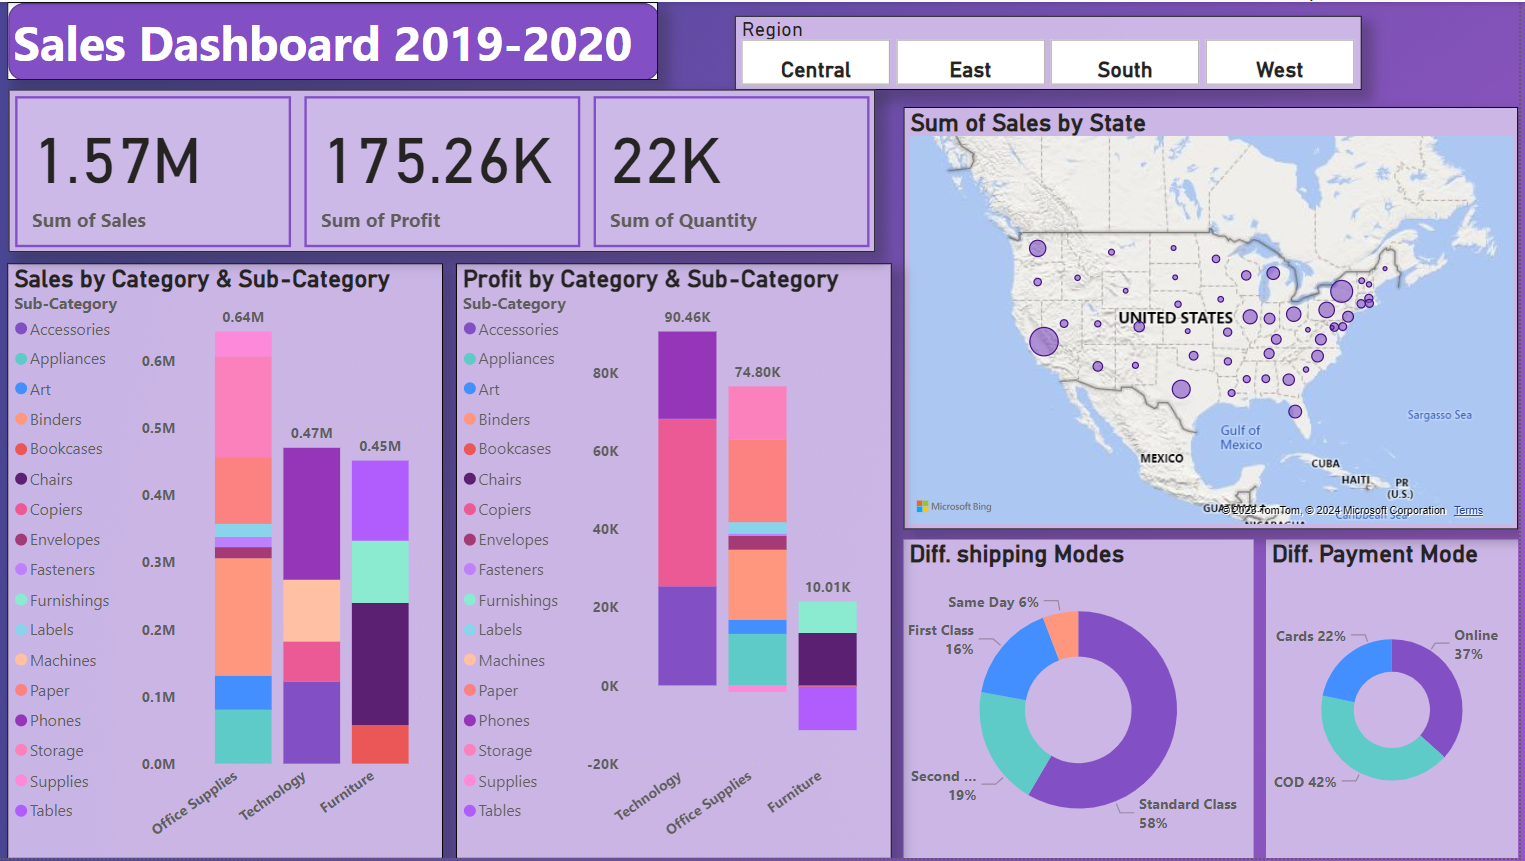

Layout of this report page (visuals, bound fields, positions):
{"tool":"powerbi","page":{"name":"Dashboard1","canvas":[1280,720],"ordinal":0},"visuals":[{"type":"shape","box":[10,0,547.6,65.4],"z":0},{"type":"donutChart","title":"Diff. Payment Mode","fields":{"Category":["SuperStore_Sales_Dataset.Payment Mode"],"Y":["CountNonNull(SuperStore_Sales_Dataset.Order ID)"]},"box":[1067.6,451.6,212.1,268.4],"z":1000},{"type":"advancedSlicerVisual","fields":{"Values":["SuperStore_Sales_Dataset.Region"]},"box":[620.8,12,527.3,62.3],"z":1001},{"type":"map","fields":{"Category":["SuperStore_Sales_Dataset.State"],"Size":["Sum(SuperStore_Sales_Dataset.Sales)"]},"box":[763.2,88,516.5,354.9],"z":1002},{"type":"columnChart","title":"Sales by Category & Sub-Category","fields":{"Category":["SuperStore_Sales_Dataset.Category"],"Y":["Sum(SuperStore_Sales_Dataset.Sales)"],"Series":["SuperStore_Sales_Dataset.Sub-Category"]},"box":[9.6,219.3,366.7,501],"z":1003},{"type":"pieChart","title":"Diff. shipping Modes","fields":{"Category":["SuperStore_Sales_Dataset.Ship Mode"],"Y":["CountNonNull(SuperStore_Sales_Dataset.Order ID)"]},"box":[763.2,451.6,294.3,268.4],"z":1004},{"type":"columnChart","title":"Profit by Category & Sub-Category","fields":{"Category":["SuperStore_Sales_Dataset.Category"],"Series":["SuperStore_Sales_Dataset.Sub-Category"],"Y":["Sum(SuperStore_Sales_Dataset.Profit)"]},"box":[387.1,219.3,366.7,501],"z":1005},{"type":"cardVisual","fields":{"Data":["Sum(SuperStore_Sales_Dataset.Sales)","Sum(SuperStore_Sales_Dataset.Profit)","Sum(SuperStore_Sales_Dataset.Quantity)"]},"box":[10.1,73.6,728.6,137.1],"z":1006}]}

Visuals, with their boxes in screenshot pixels (x1, y1, x2, y2), scaled from the page's 1280x720 canvas onto the 1525x861 screenshot:
shape: l=12, t=0, r=664, b=78
"Diff. Payment Mode" donutChart: l=1272, t=540, r=1524, b=860
advancedSlicerVisual - SuperStore_Sales_Dataset.Region: l=740, t=14, r=1368, b=89
map - SuperStore_Sales_Dataset.State x Sum(SuperStore_Sales_Dataset.Sales): l=909, t=105, r=1524, b=530
"Sales by Category & Sub-Category" columnChart: l=11, t=262, r=448, b=860
"Diff. shipping Modes" pieChart: l=909, t=540, r=1260, b=860
"Profit by Category & Sub-Category" columnChart: l=461, t=262, r=898, b=860
cardVisual - Sum(SuperStore_Sales_Dataset.Sales) x Sum(SuperStore_Sales_Dataset.Profit): l=12, t=88, r=880, b=252
